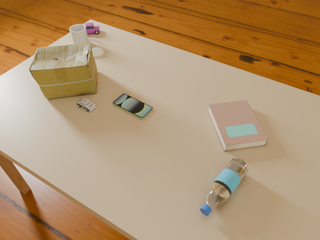book: (208, 100, 268, 151)
bottle: (200, 158, 248, 216)
box: (29, 43, 97, 99)
cup: (70, 24, 89, 44)
mouse: (92, 47, 104, 57)
phone: (113, 94, 153, 119)
toy_car: (76, 98, 96, 112), (85, 23, 100, 34)
